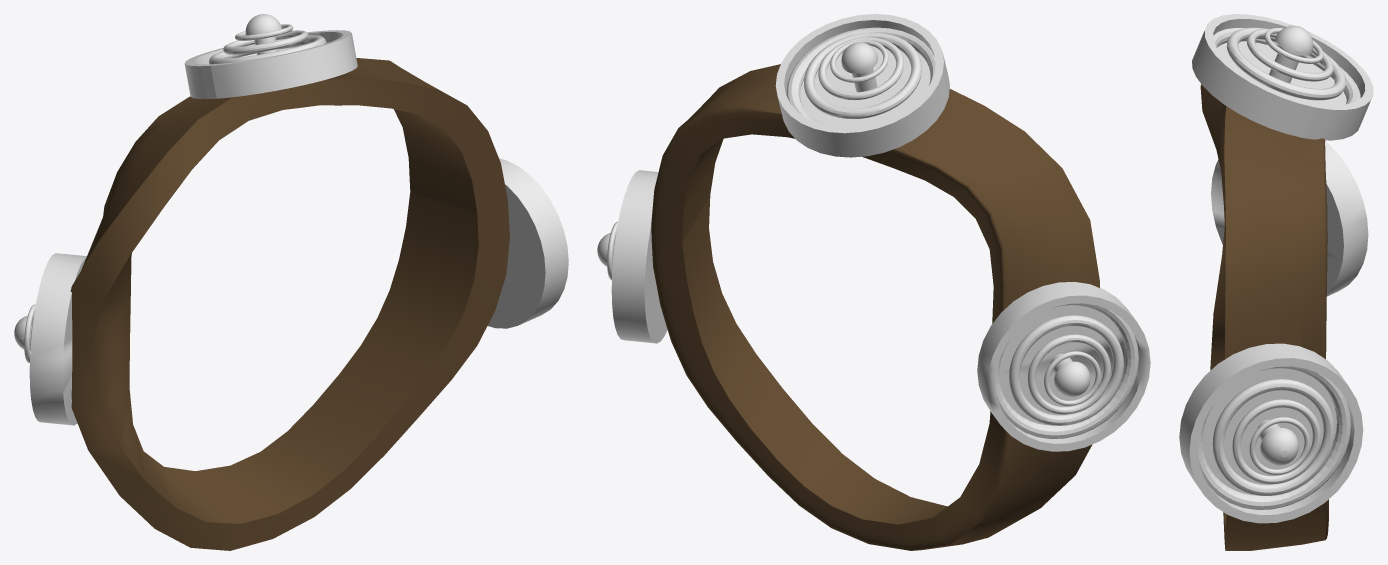
File: emp.fbx
3 views of the same model, side by side, from view 1: azimuth 30°, elevation 25°; view 2: azimuth 150°, elevation 25°; view 3: azimuth 270°, elevation 25° (orthographic). The views are drawn at different scales.
Parts seen in each view (by area): view 1: Cylinder.035; view 2: Cylinder.035; view 3: Cylinder.035.
Part boxes in pixels (left/top/right/bottom): Cylinder.035: left=14, top=14, right=568, bottom=550; Cylinder.035: left=597, top=14, right=1150, bottom=550; Cylinder.035: left=1179, top=14, right=1373, bottom=550.
Size of the model in its own units: 187 by 168 by 56.02.
